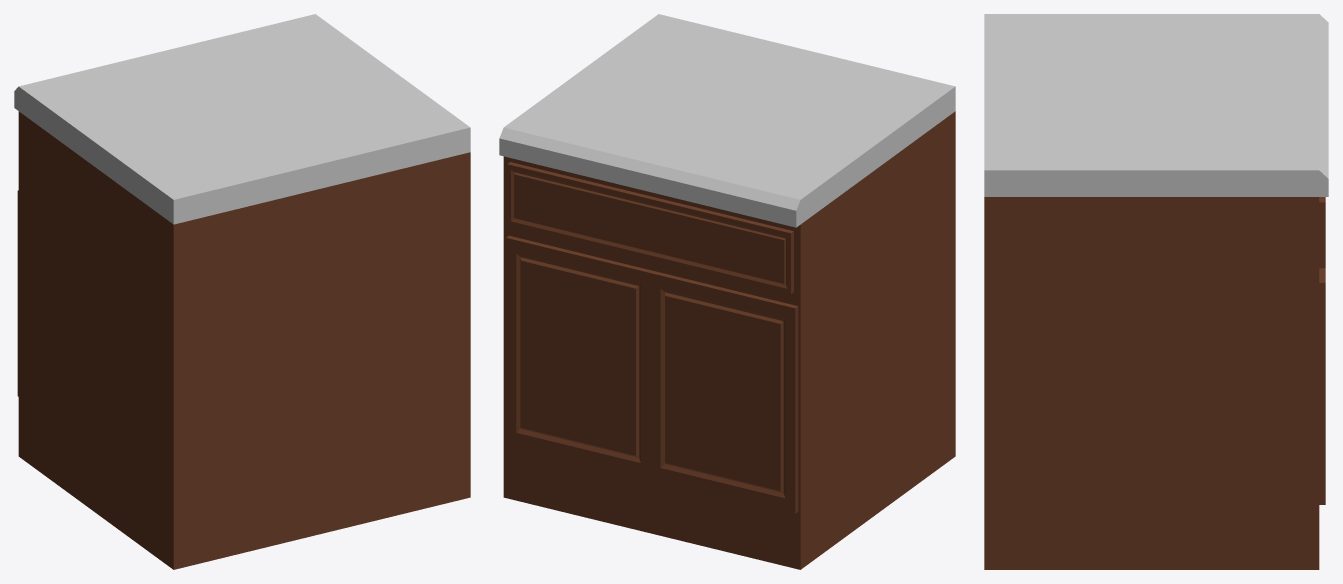
File: Cabinet.fbx
3 views of the same model, side by side, from view 1: azimuth 30°, elevation 25°; view 2: azimuth 150°, elevation 25°; view 3: azimuth 270°, elevation 25° (orthographic). The views are drawn at different scales.
Visible parts, largest first — view 1: Counter; view 2: Counter, CabDoor2, CabDoor1; view 3: Counter, CabDoor1.
Boxes of the visible parts, left/top/right/bottom form: Counter: left=14, top=14, right=470, bottom=569; Counter: left=499, top=14, right=955, bottom=569; CabDoor2: left=651, top=271, right=798, bottom=513; CabDoor1: left=506, top=235, right=653, bottom=478; Counter: left=984, top=14, right=1328, bottom=569; CabDoor1: left=1319, top=268, right=1325, bottom=504.
Size of the model in its own units: 3.81 by 4.54 by 3.54.
